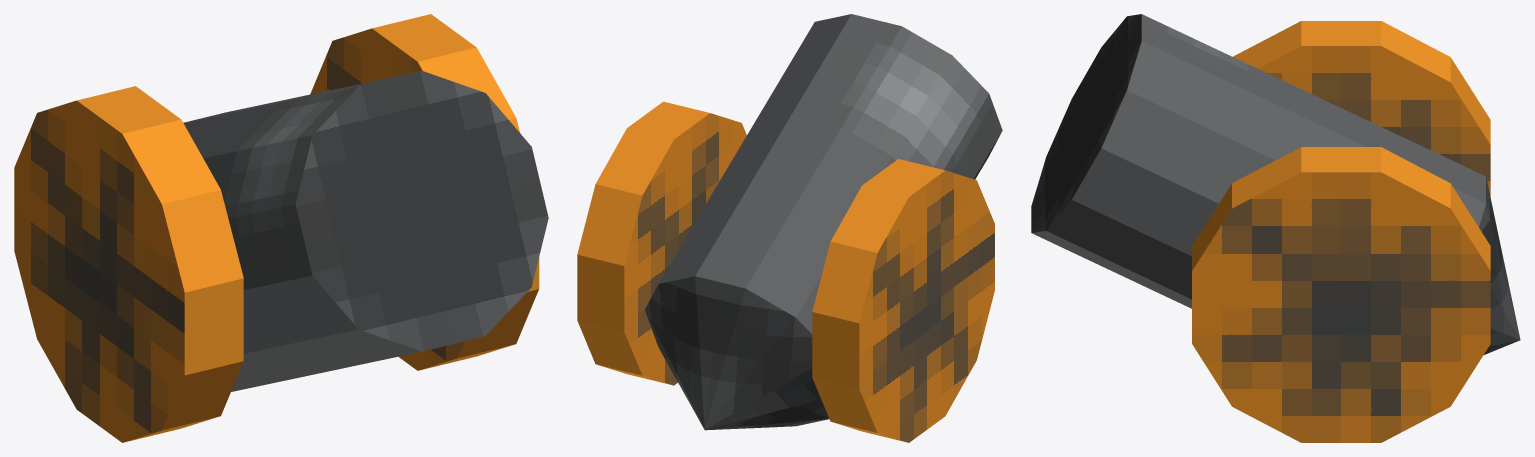
Rendered from bad_cannon.gltf.
The picture shows the model from 3 angles, left to right: view 1: azimuth 30°, elevation 25°; view 2: azimuth 150°, elevation 25°; view 3: azimuth 270°, elevation 25°; orthographic projection. The views are drawn at different scales.
Parts seen in each view (by area): view 1: cylinder (×3); view 2: cylinder (×3); view 3: cylinder (×3).
Boxes of the visible parts, bbox=[...] form: cylinder (×3): bbox=[14, 14, 548, 442]; cylinder (×3): bbox=[577, 14, 1002, 442]; cylinder (×3): bbox=[1031, 14, 1520, 442].
Bounding box in the file's own units: 0.75 × 0.8187 × 1.02.
1 material, 1 textured.
